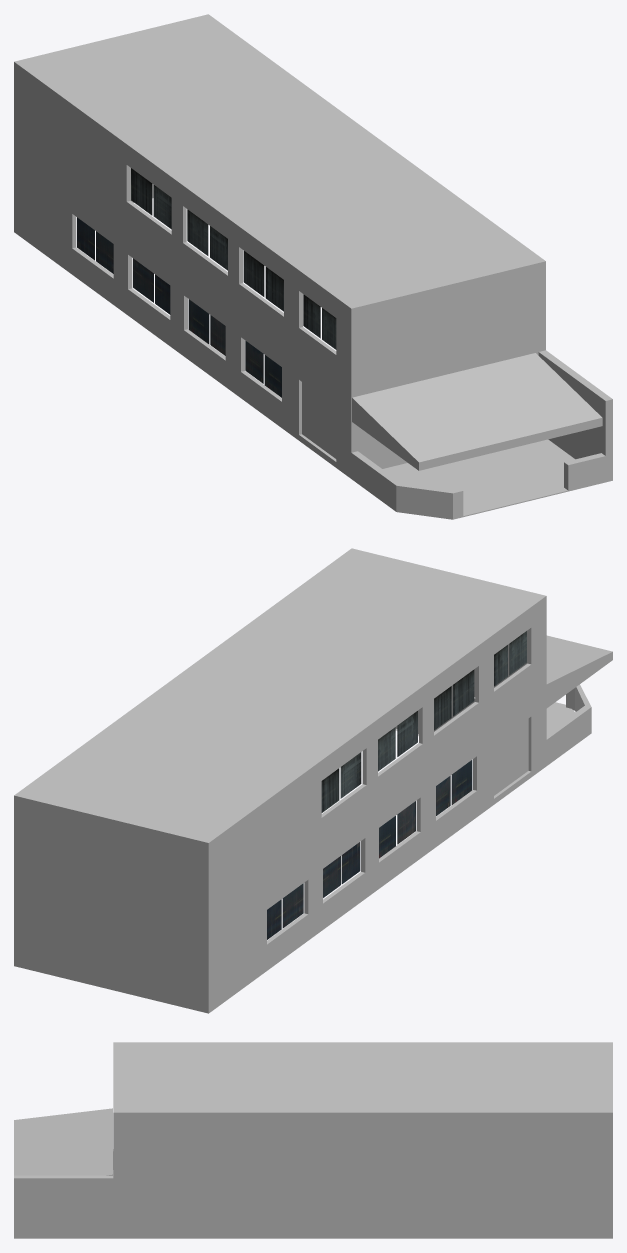
3 renders of one model, top to bottom at view 1: azimuth 30°, elevation 25°; view 2: azimuth 150°, elevation 25°; view 3: azimuth 270°, elevation 25°, orthographic. The views are drawn at different scales.
Parts seen in each view (by area): view 1: EB-003; view 2: EB-003; view 3: EB-003.
Part boxes in pixels (x1,y1,x2,y2): EB-003: (14, 14, 612, 519); EB-003: (14, 548, 612, 1013); EB-003: (14, 1042, 612, 1238).
Size of what is drawn, in the model's own units: 10 by 8.37 by 36.
